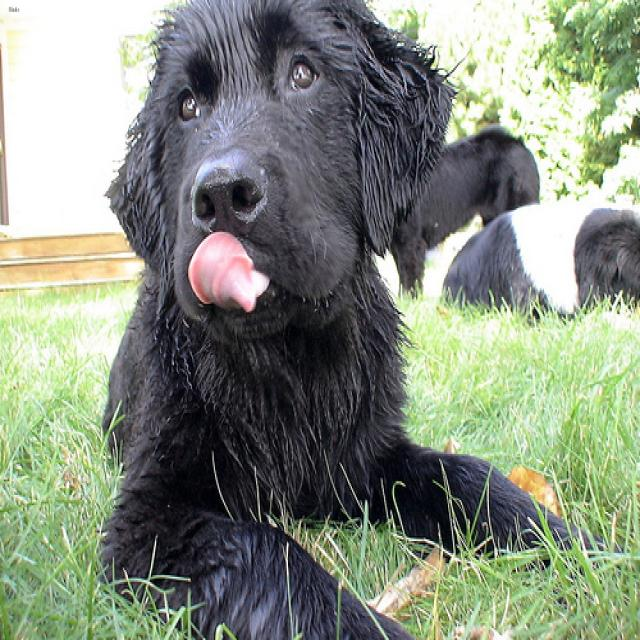dog-newfoundland: (84, 2, 625, 637)
